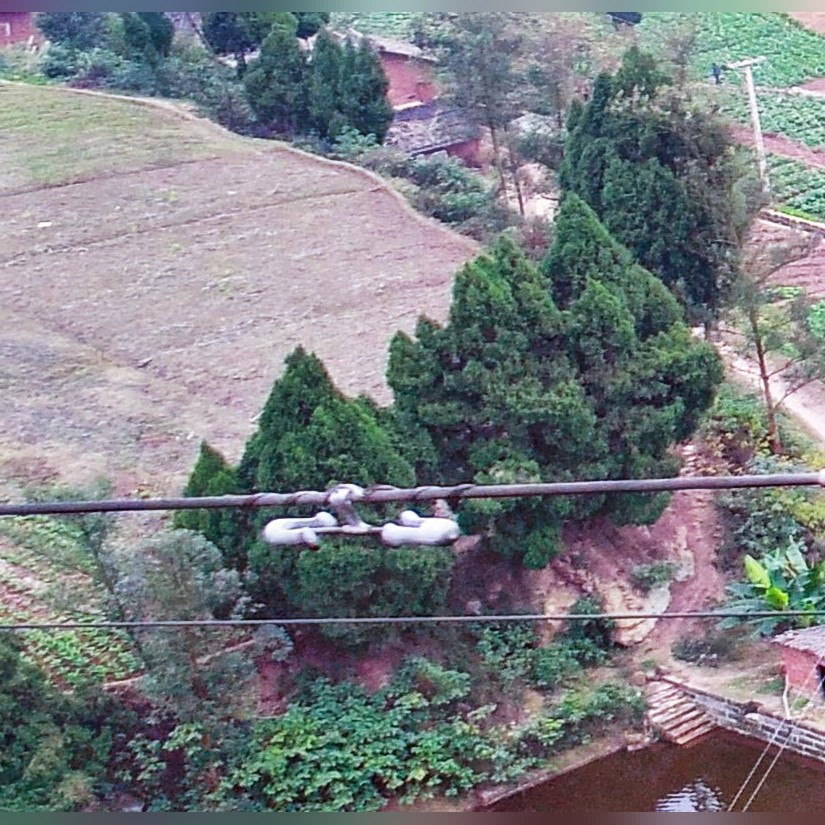Shockproof hammer: (253, 469, 468, 561)
